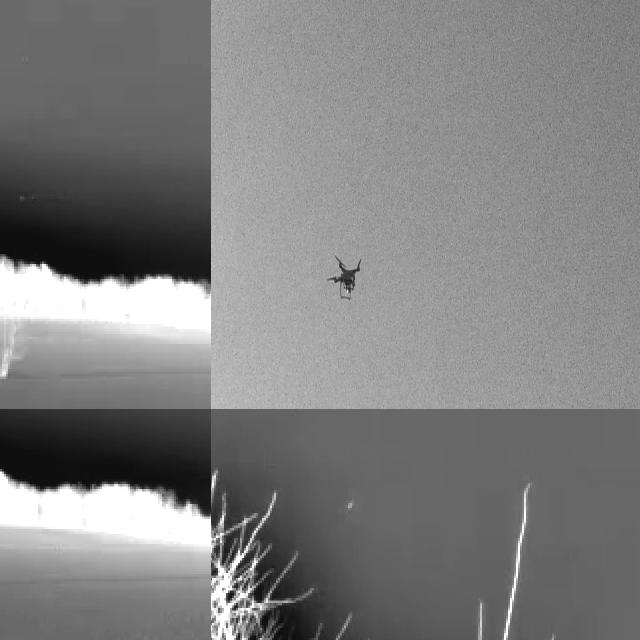0: (336, 494, 366, 527), (13, 189, 45, 217)
drone: (327, 254, 362, 304)
